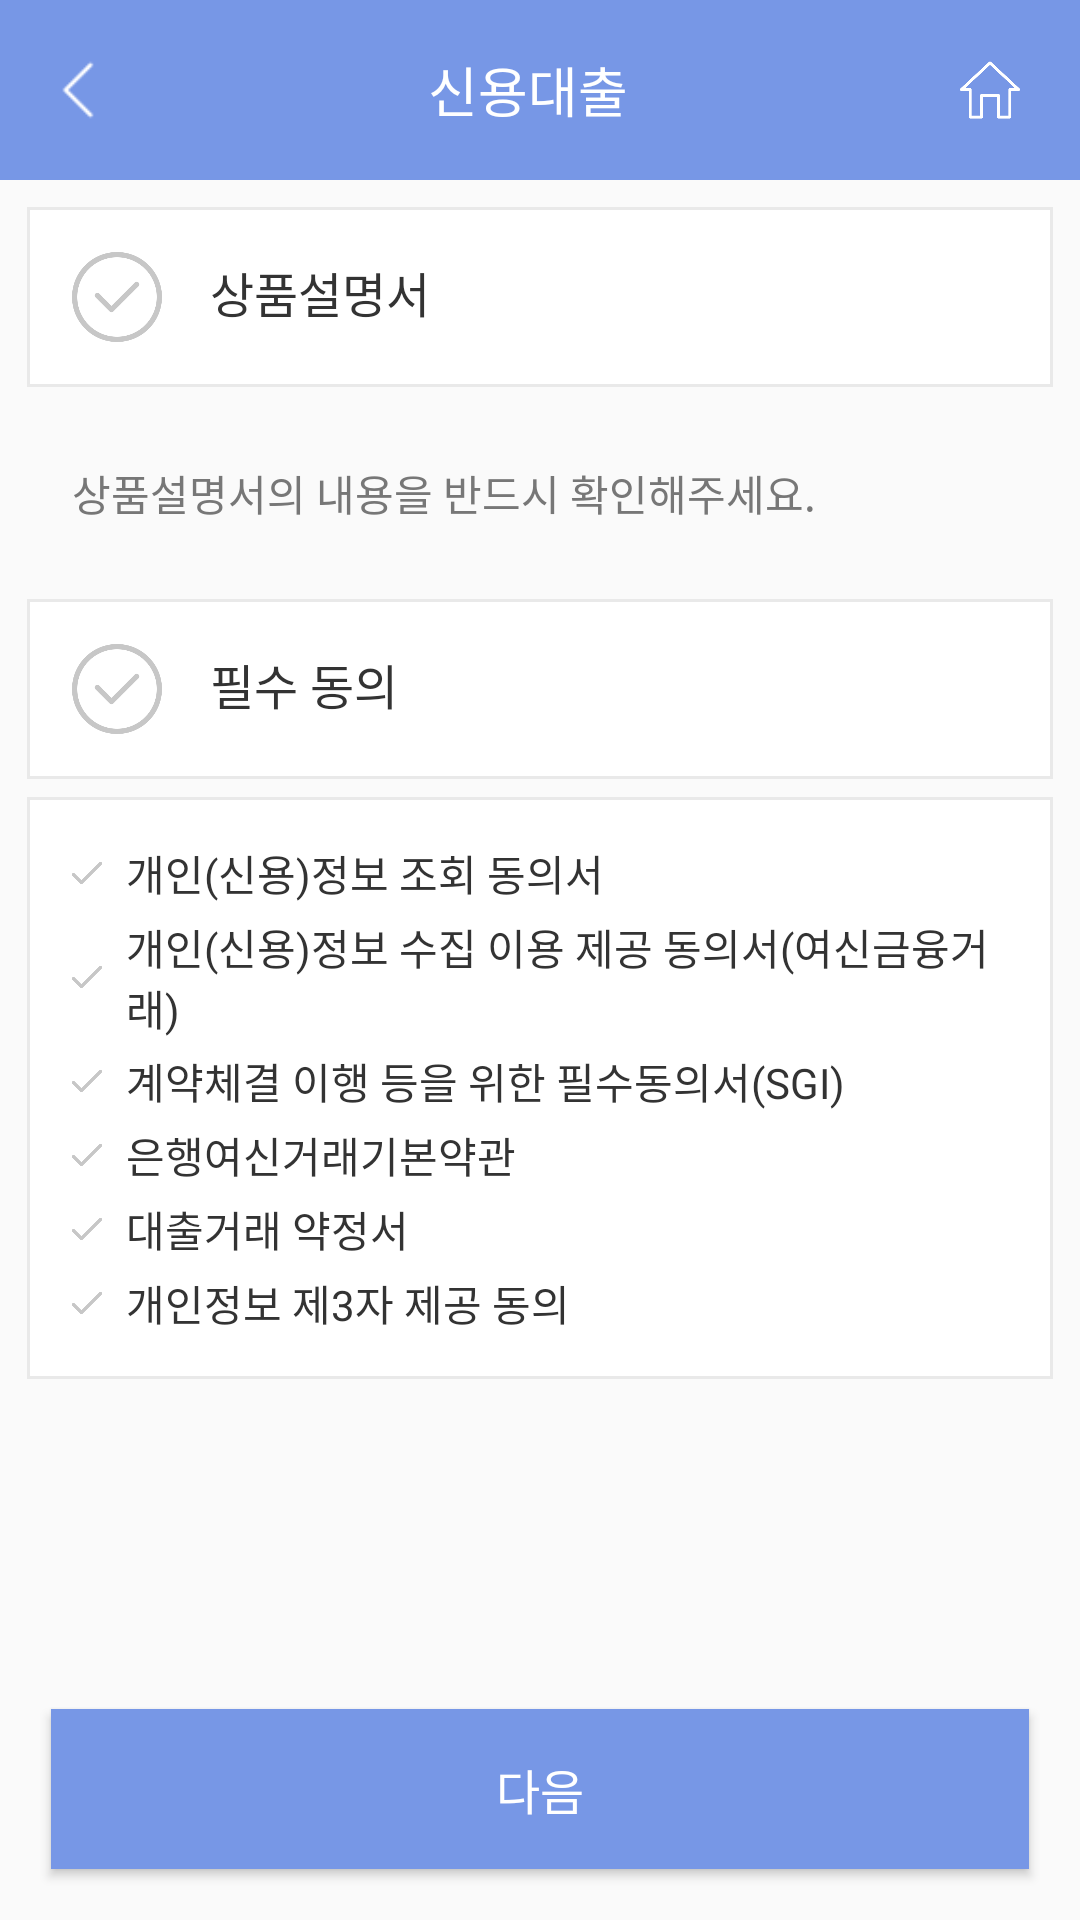

Screen size 1080px×1920px. Icon name, then its center in pixels as [x,y]:
top back: [78,90]
top home: [990,90]
